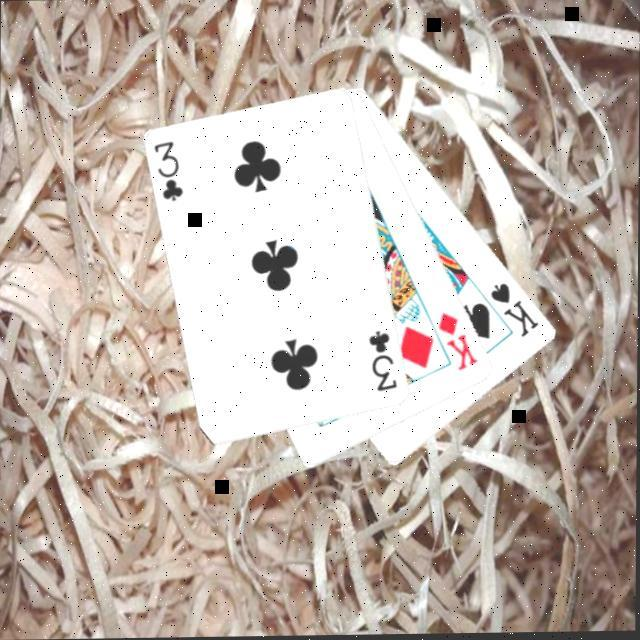3C: (150, 139, 188, 207), (367, 330, 402, 398)
KD: (437, 310, 483, 377)
KS: (488, 280, 544, 344)
